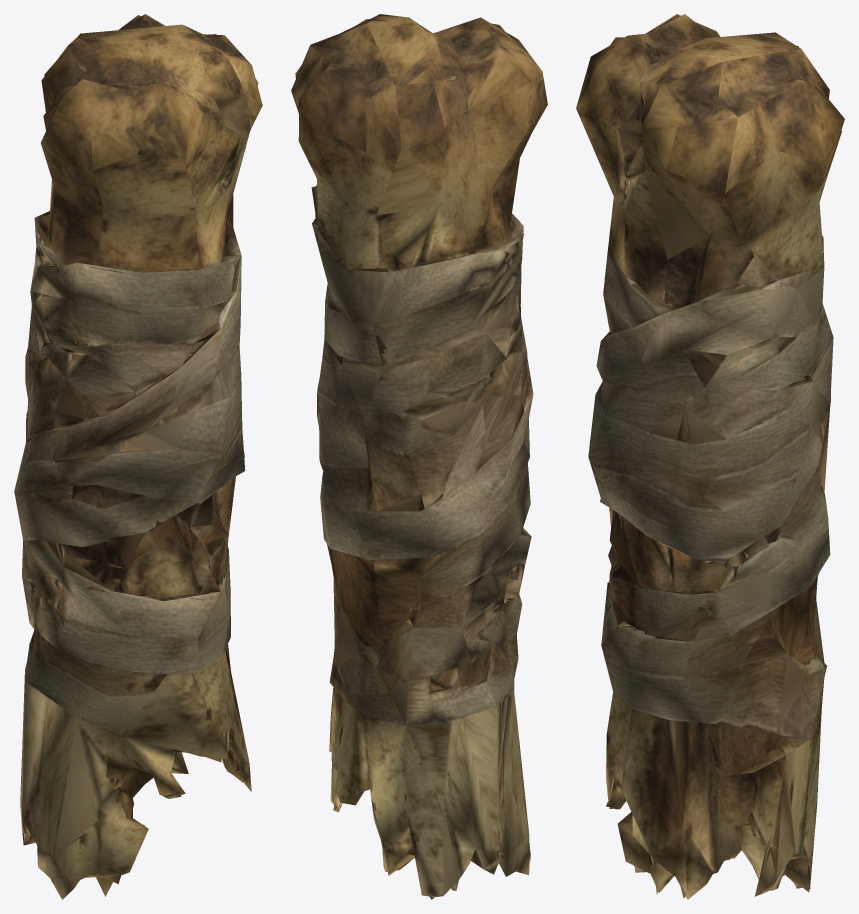
Rendered from mummy_bone.glb.
The picture shows the model from 3 angles, left to right: view 1: azimuth 30°, elevation 25°; view 2: azimuth 150°, elevation 25°; view 3: azimuth 270°, elevation 25°; orthographic projection. The views are drawn at different scales.
Parts seen in each view (by area): view 1: mummy_part_bone_LOD0; view 2: mummy_part_bone_LOD0; view 3: mummy_part_bone_LOD0.
Part boxes in pixels (box(x1,y1,x2,y2)): mummy_part_bone_LOD0: box(14, 14, 262, 899); mummy_part_bone_LOD0: box(291, 14, 547, 899); mummy_part_bone_LOD0: box(576, 14, 844, 899).
Size of the model in its own units: 0.0334 by 0.12 by 0.0329.
Materials: 1 (1 with a texture image).
